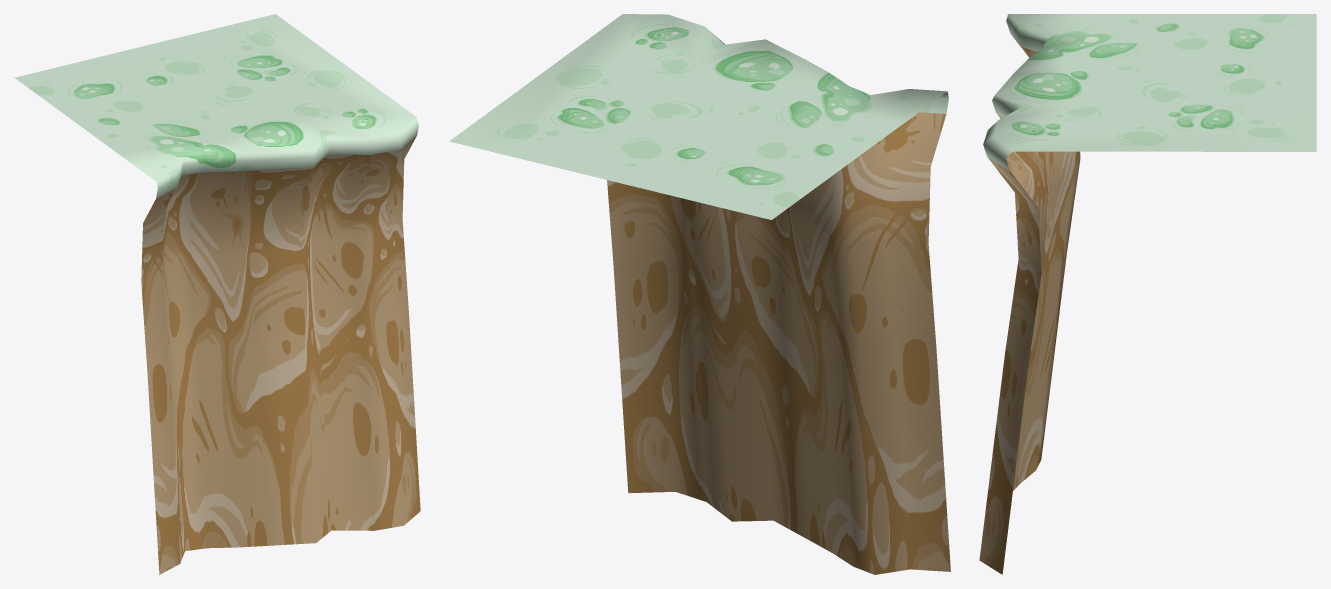
Rendered from SM_tille_small_01.fbx.
3 renders of one model, left to right at view 1: azimuth 30°, elevation 25°; view 2: azimuth 150°, elevation 25°; view 3: azimuth 270°, elevation 25°, orthographic. The views are drawn at different scales.
Visible parts, largest first — view 1: SM_tille_small_01; view 2: SM_tille_small_01; view 3: SM_tille_small_01.
Boxes of the visible parts, x1,y1,x2,y2 form: SM_tille_small_01: (14,14,420,574); SM_tille_small_01: (449,14,950,574); SM_tille_small_01: (979,14,1316,574).
Bounding box in the file's own units: 1217 × 1742 × 1257.
